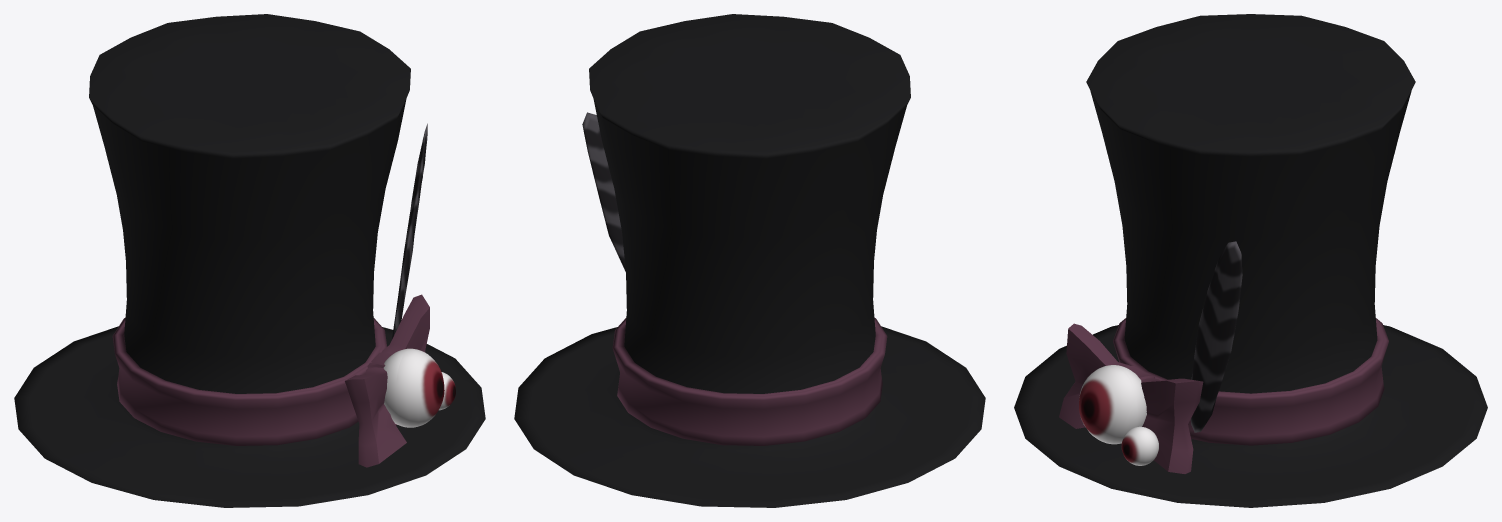
The model's file is hat.fbx.
3 views of the same model, side by side, from view 1: azimuth 30°, elevation 25°; view 2: azimuth 150°, elevation 25°; view 3: azimuth 270°, elevation 25° (orthographic).
Parts seen in each view (by area): view 1: pCube6; view 2: pCube6; view 3: pCube6.
Boxes of the visible parts, box(x1,y1,x2,y2) form: pCube6: box(14, 14, 485, 507); pCube6: box(514, 14, 985, 507); pCube6: box(1014, 14, 1487, 507).
Size of the model in its own units: 1.9 by 1.45 by 1.9.
1 material, 1 textured.
